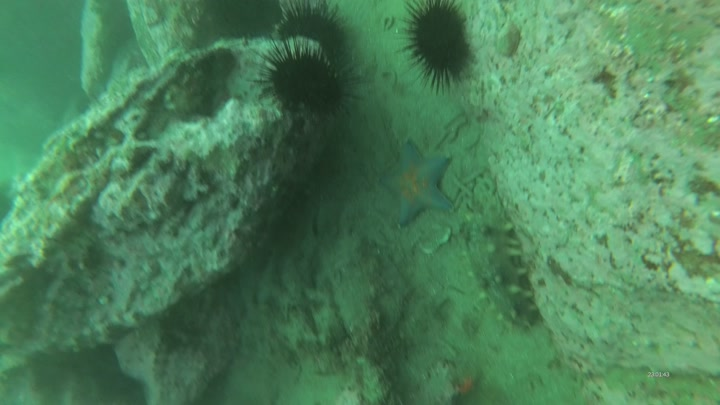holothurian: (453, 215, 545, 332), (251, 41, 363, 124), (402, 1, 480, 94), (268, 2, 354, 62)
starfish: (373, 139, 460, 229)
